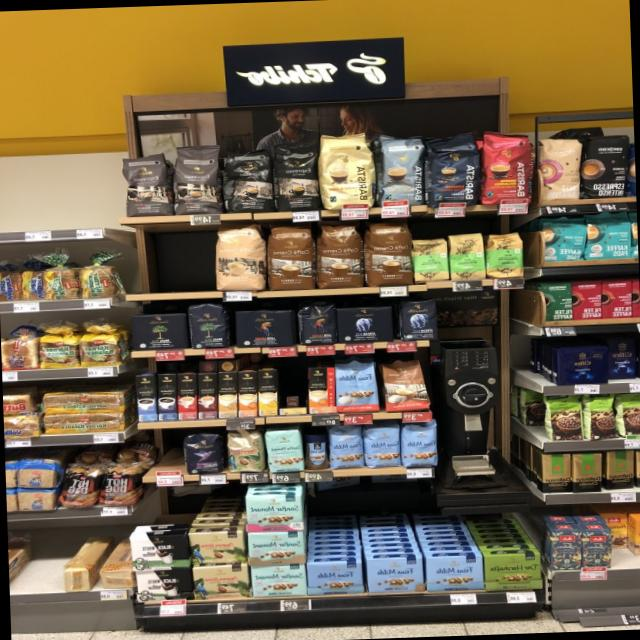AB Bohne: (398, 298, 440, 342)
AB Gemahlen: (335, 306, 395, 344)
Athiopien Bohne: (484, 231, 526, 280)
Athiopien Gemahlen: (447, 232, 486, 282), (411, 236, 450, 284)
BM Bohne: (186, 303, 228, 350)
BM Gemahlen: (128, 310, 189, 352)
BW Gemahlen: (129, 530, 190, 572), (133, 568, 194, 604)
Barista CB: (314, 130, 380, 212)
Barista CC: (374, 133, 426, 210)
Barista Espresso: (419, 133, 481, 211)
Barista Kolumbien: (476, 128, 538, 206)
C Fino Bohne: (182, 432, 225, 474)
CC Mild: (212, 224, 268, 292)
CC Vollmundig 36 Pads: (264, 224, 318, 292), (313, 222, 366, 290), (360, 223, 414, 287)
Colombia BB Bohne: (225, 430, 265, 472)
Colombia BB Gemahlen: (192, 562, 252, 602), (188, 528, 246, 564)
Empty Shelf: (137, 232, 216, 292), (275, 366, 308, 414), (150, 435, 182, 475)
Espresso Aromatisch: (170, 140, 224, 218), (121, 152, 172, 217), (379, 356, 435, 413)
Espresso Kraftig: (268, 141, 322, 213), (221, 150, 275, 213)
FM 36 Pads: (333, 358, 382, 414)
FM Bohne: (324, 424, 366, 470), (362, 422, 403, 469), (400, 422, 440, 466)
FM Gemahlen: (365, 556, 425, 594), (424, 554, 484, 591), (304, 559, 363, 596)
FM Instant: (302, 429, 330, 470)
Herzhatfe Mundig: (482, 552, 542, 592)
LG Bohne: (297, 302, 337, 346)
LG Gemahlen: (232, 309, 296, 348)
SM Bohne: (264, 428, 306, 474)
SM Gemahlen: (245, 530, 306, 568), (245, 492, 302, 532), (250, 564, 310, 598)
Simo CCMild bigpack: (255, 367, 278, 416)
Simo CCVollmundig: (304, 364, 338, 414)
Simo CCVollmundig bigpack: (236, 370, 260, 419)
Simo Decaff: (216, 372, 238, 418)
Simo Es Elegant: (174, 373, 196, 420)
Simo Es Kraft: (195, 372, 218, 421)
Simo Kaffee Kraft: (154, 373, 177, 423)
Simo Kaffee Mild: (135, 373, 156, 422)
